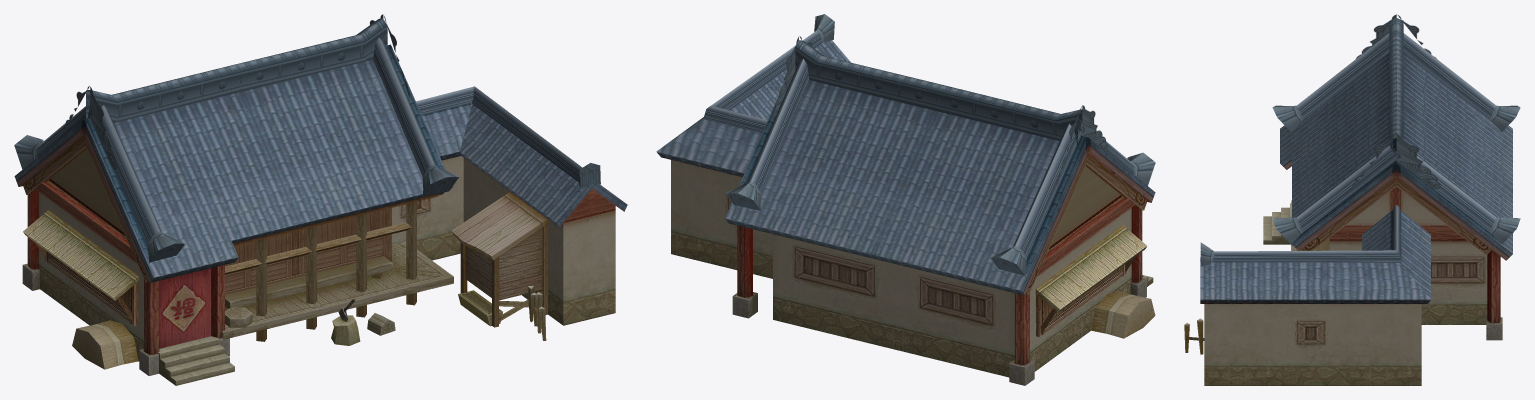
3 renders of one model, left to right at view 1: azimuth 30°, elevation 25°; view 2: azimuth 150°, elevation 25°; view 3: azimuth 270°, elevation 25°, orthographic. The views are drawn at different scales.
Parts seen in each view (by area): view 1: gujian_367, gujian_365, gujian_368, gujian_364, gujian_366, gujian_363; view 2: gujian_367, gujian_368, gujian_364, gujian_366, gujian_365, gujian_363; view 3: gujian_367, gujian_368, gujian_366, gujian_364, gujian_363, gujian_365.
Part boxes in pixels (<box>): gujian_367: <box>14,44,452,325</box>; gujian_365: <box>72,192,549,369</box>; gujian_368: <box>22,103,627,385</box>; gujian_364: <box>14,18,600,262</box>; gujian_366: <box>391,156,615,325</box>; gujian_363: <box>64,14,409,169</box>; gujian_367: <box>725,80,1155,337</box>; gujian_368: <box>656,40,1153,385</box>; gujian_364: <box>703,14,1155,275</box>; gujian_366: <box>671,160,772,278</box>; gujian_365: <box>1091,291,1155,338</box>; gujian_363: <box>773,36,1107,185</box>; gujian_367: <box>1280,53,1512,260</box>; gujian_368: <box>1200,186,1502,340</box>; gujian_366: <box>1204,304,1421,385</box>; gujian_364: <box>1200,18,1520,266</box>; gujian_363: <box>1352,14,1440,188</box>; gujian_365: <box>1184,238,1329,354</box>.
Bounding box in the file's own units: 1.88 × 0.9691 × 1.44.
6 materials, 6 textured.
